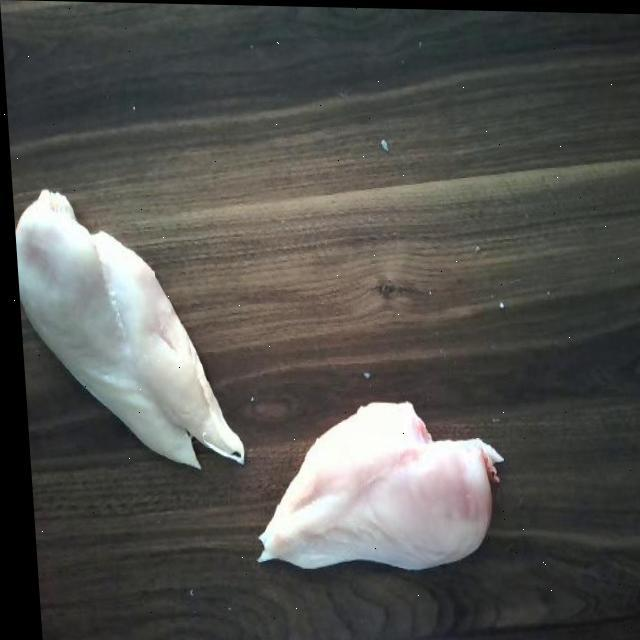breast: (9, 189, 244, 470), (255, 392, 505, 572)
